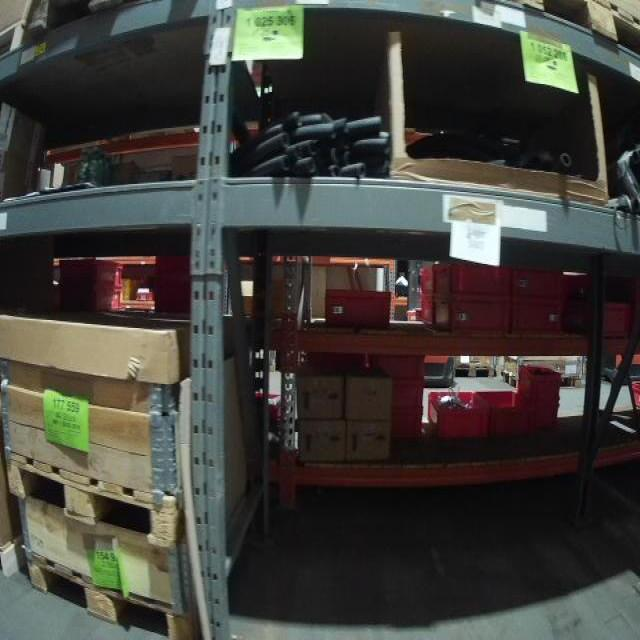pallet: (1, 449, 186, 547), (21, 552, 203, 640), (522, 0, 640, 49), (502, 369, 574, 389), (451, 367, 495, 378)
small_load_carrier: (432, 296, 512, 339), (427, 389, 489, 443), (432, 261, 512, 298), (481, 384, 531, 435), (326, 285, 394, 322), (510, 296, 571, 335), (510, 261, 571, 296), (58, 259, 129, 288), (58, 287, 120, 314), (518, 365, 559, 403), (369, 355, 431, 380), (390, 377, 427, 411), (393, 409, 423, 443), (529, 403, 561, 431), (418, 294, 440, 325), (419, 264, 440, 294), (132, 288, 153, 307)
